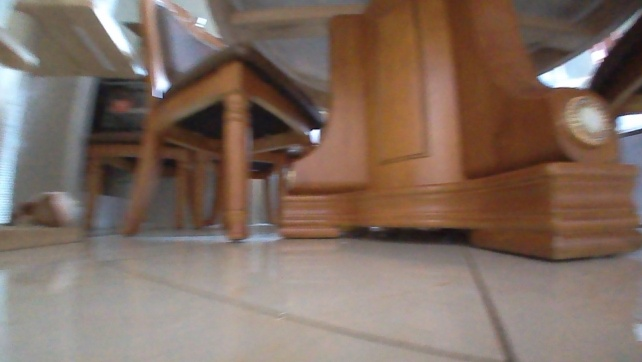dining_table1: (111, 0, 641, 266)
